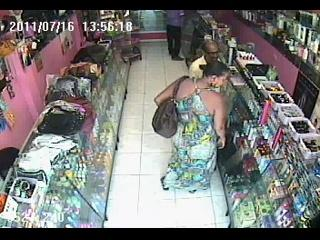Normal: (153, 62, 232, 192), (152, 76, 189, 139), (188, 39, 225, 80), (164, 10, 186, 61)
